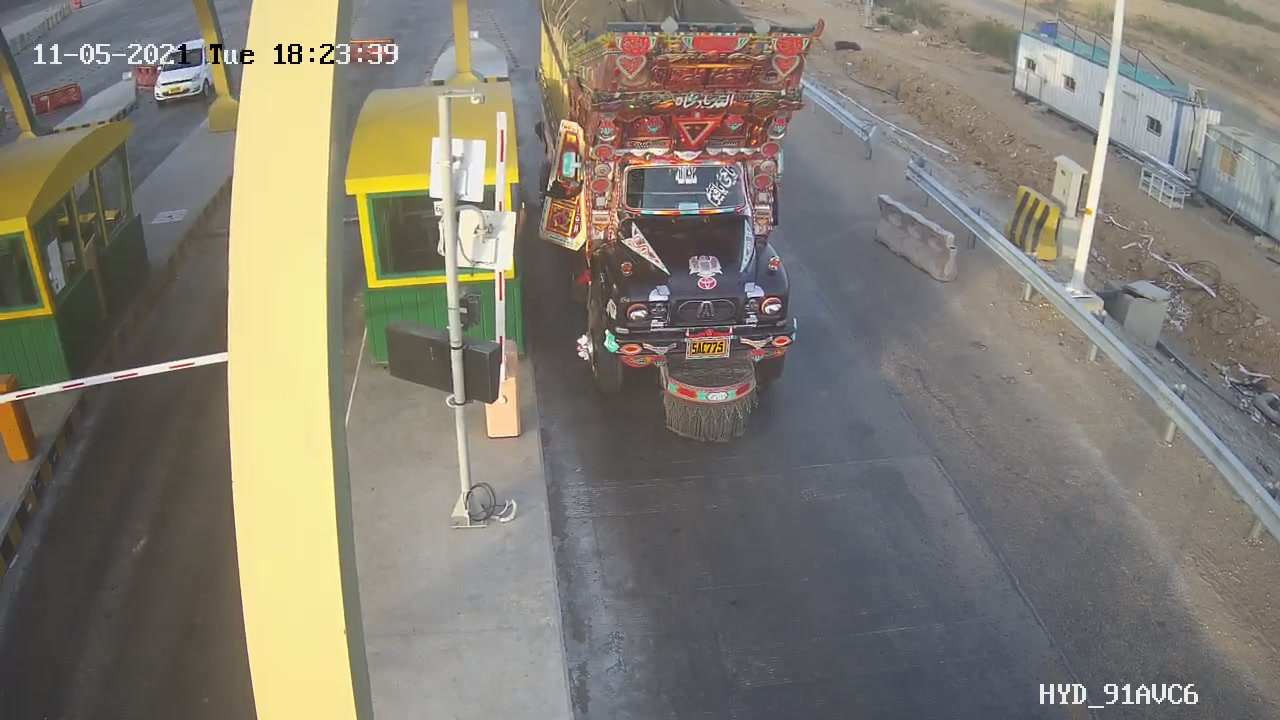F5: (537, 7, 850, 446)
